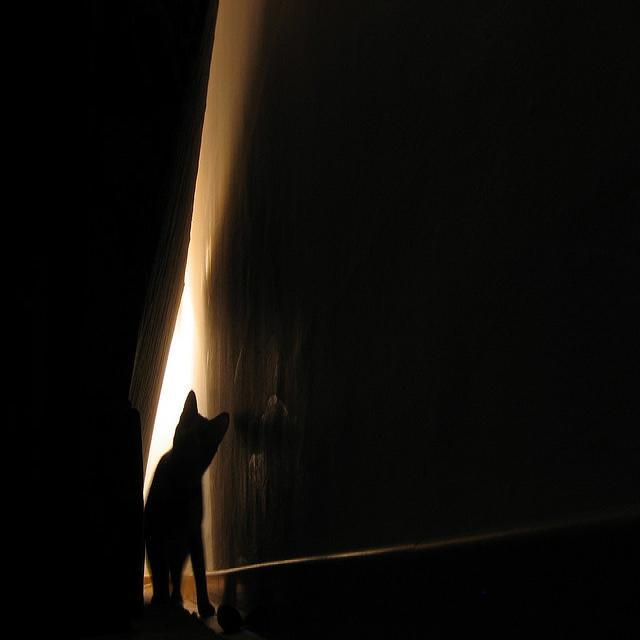Cat: (137, 378, 256, 633)
